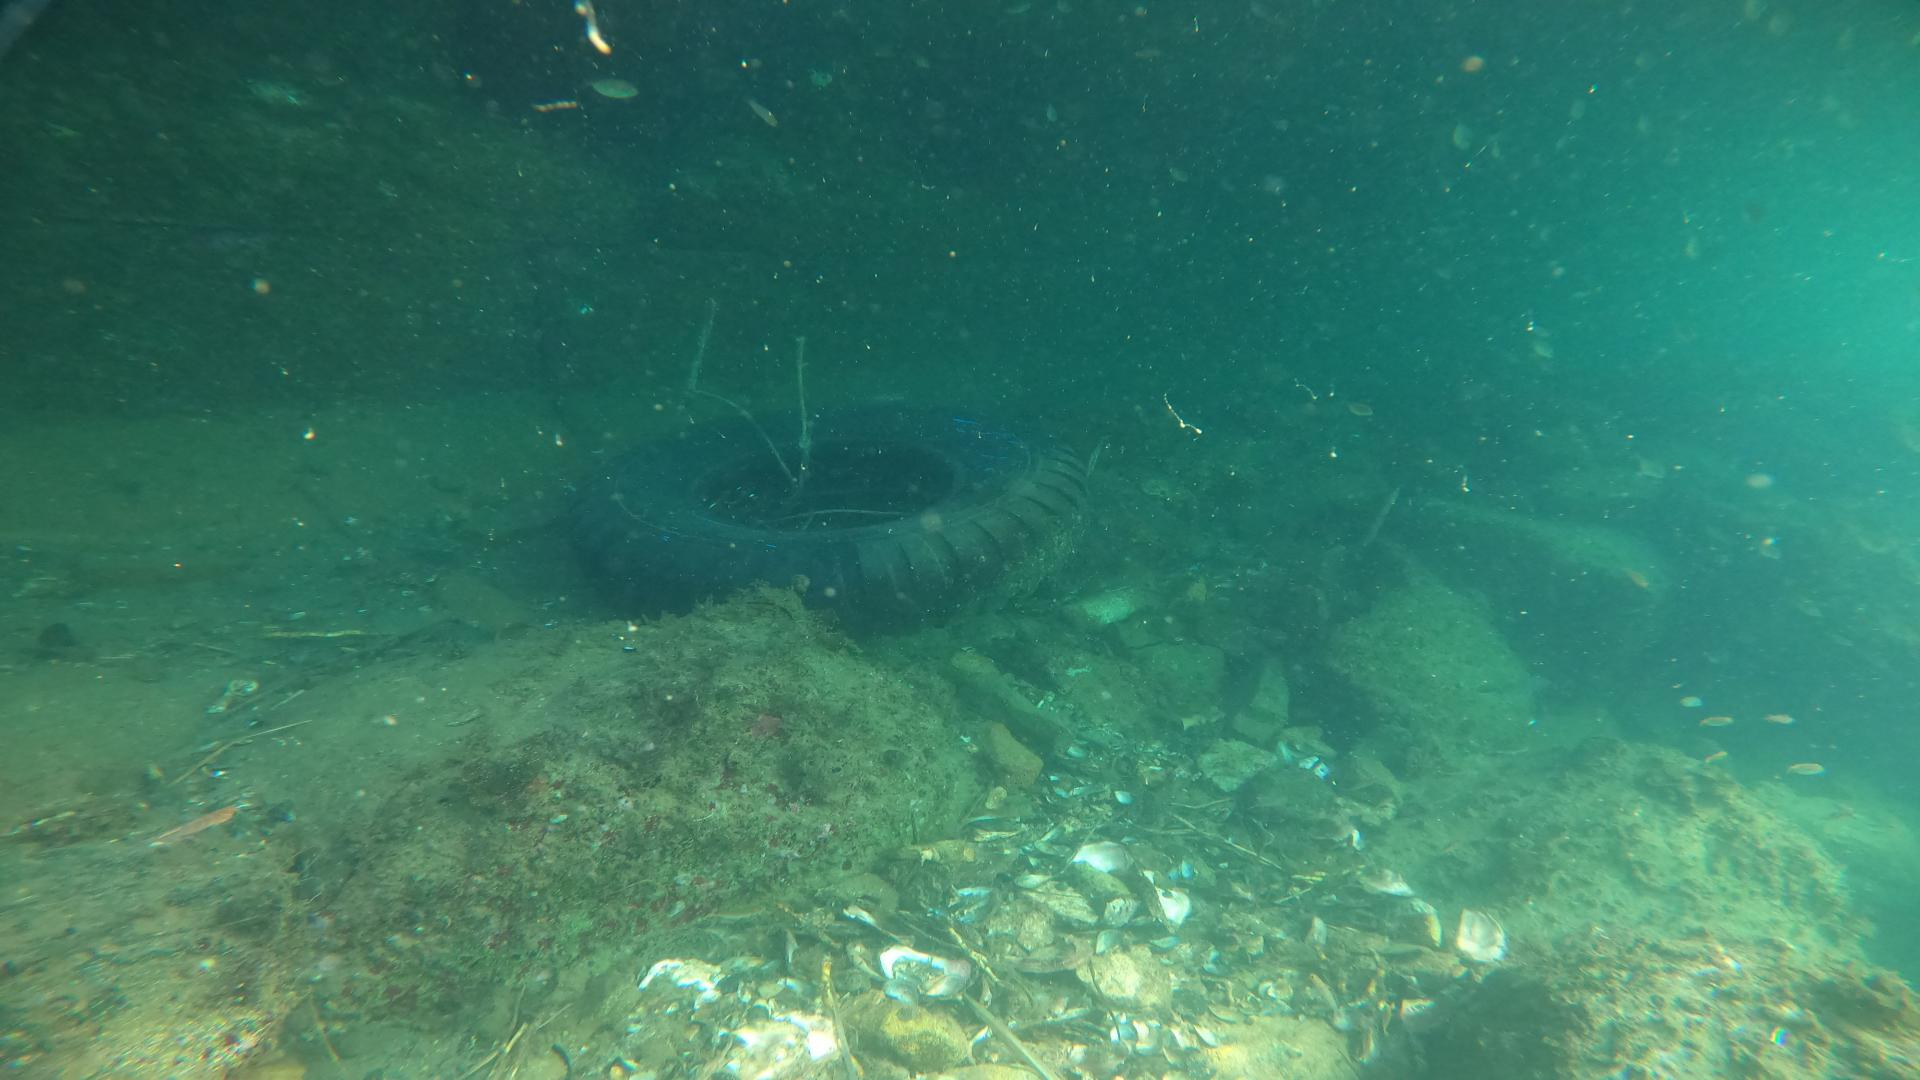tire: (567, 396, 1091, 633)
